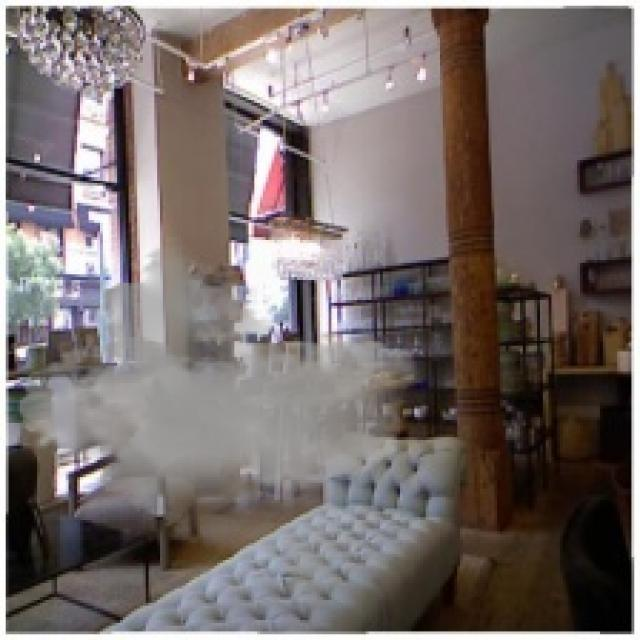Smoke: (17, 234, 420, 609)
